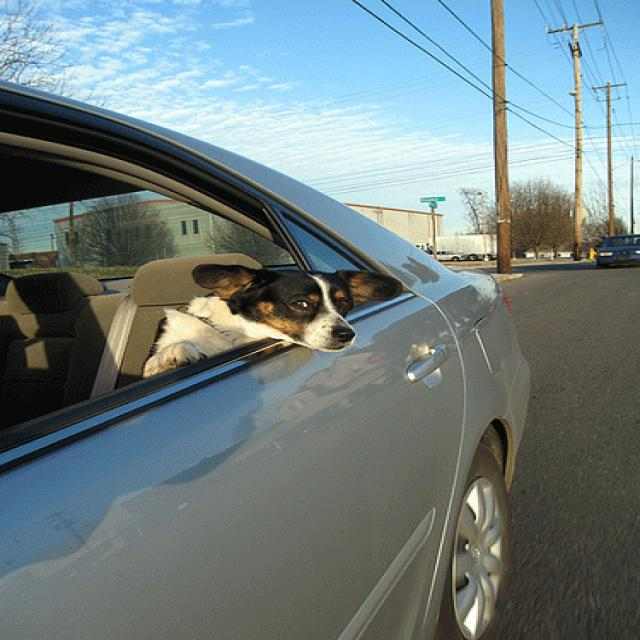car: (1, 78, 528, 640), (588, 233, 639, 267)
dog: (139, 262, 395, 380)
